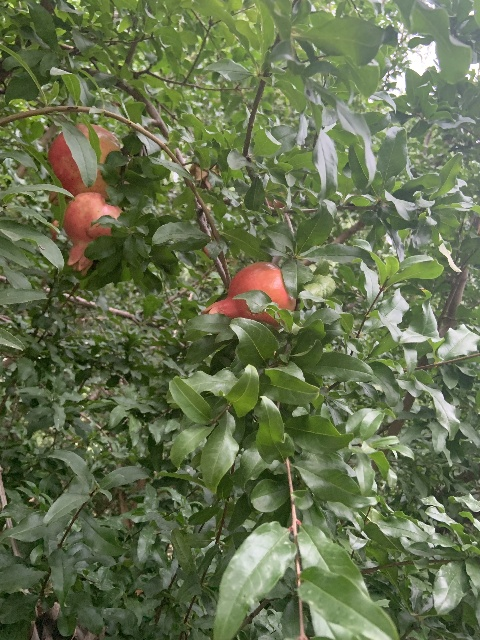ripe: (48, 123, 123, 206), (200, 261, 296, 325), (63, 192, 121, 275)
